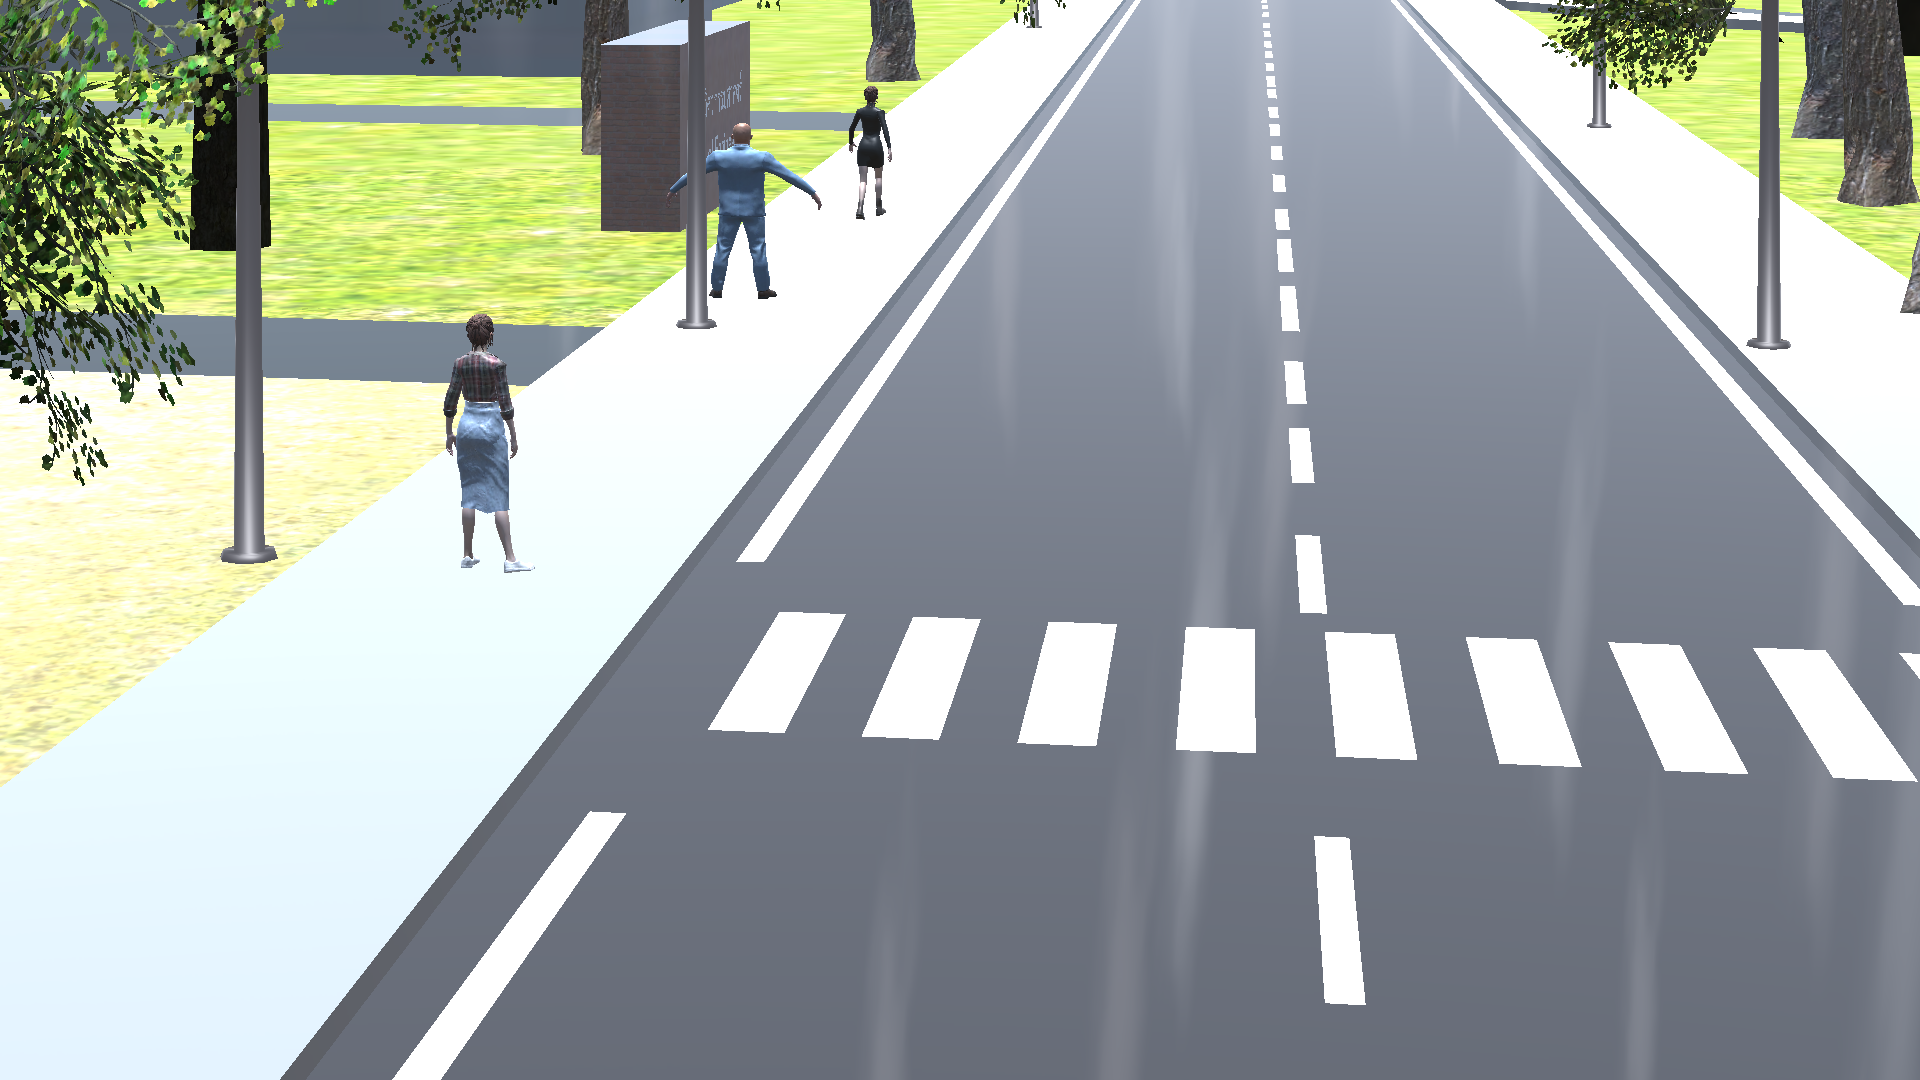pedestrian: (429, 303, 544, 587), (697, 113, 821, 296), (843, 82, 905, 224)
